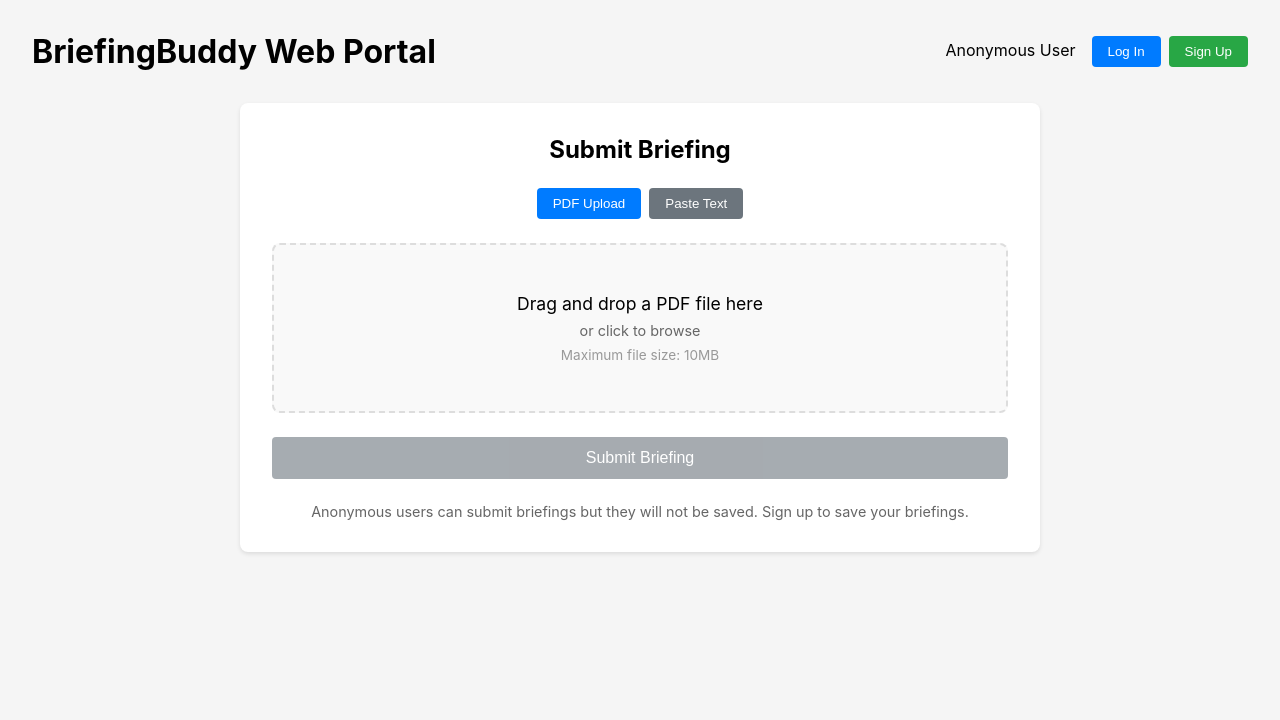
Test: HomePage - Briefing Input › Paste Mode › should switch to paste mode when toggle is clicked
The image size is (1280, 720).
What coordinates should you click on to do the following:
click the button "Paste Text"
I would click on:
 (696, 204)
Its box is [649,188,743,219].
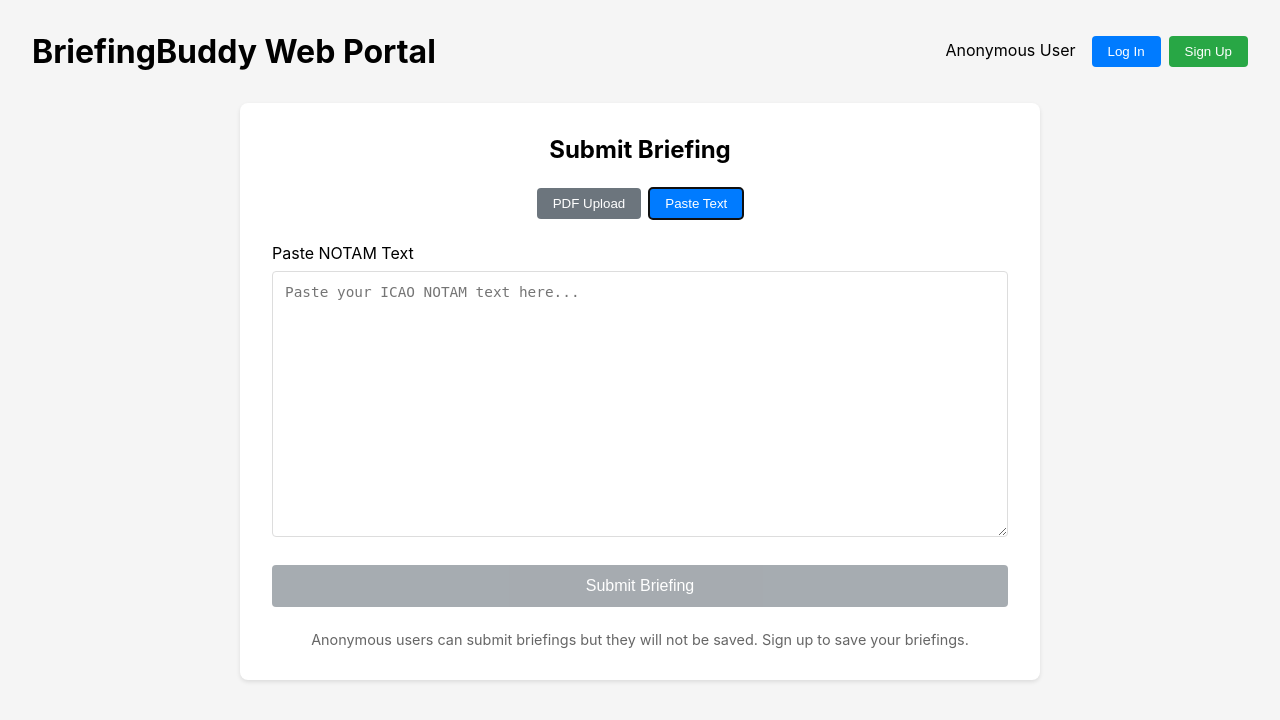
Expected: the text box labelled "Paste NOTAM Text" is shown, [272,271,1008,537]
Expected: the text "Drag and drop a PDF file here" is gone
